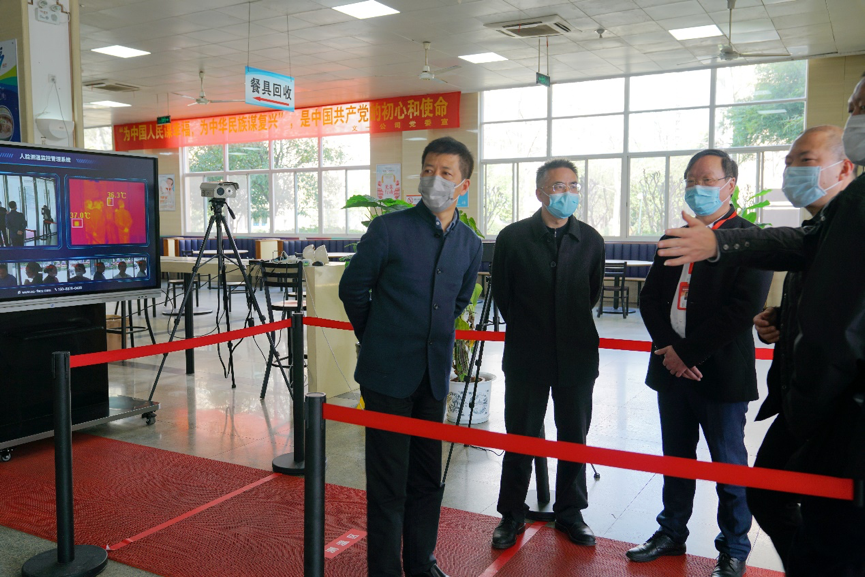correctlyWear: (777, 134, 841, 209), (419, 157, 470, 219), (680, 166, 735, 219), (536, 175, 588, 223), (843, 84, 865, 172)
